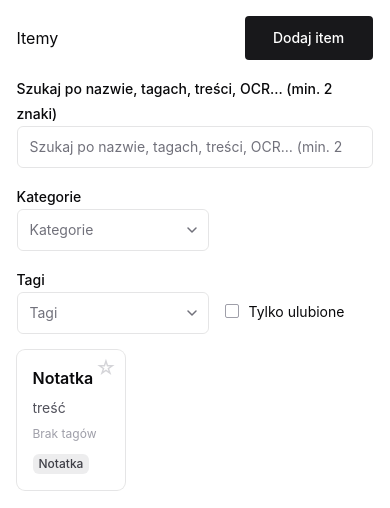
Scenario: ItemsPage — RTK Query cache after a mutation › refetches the item list after marking an item as favorite, without a manual reload
Click the button named "Dodaj do ulubionych" at (106, 368), box [96,358,116,378]
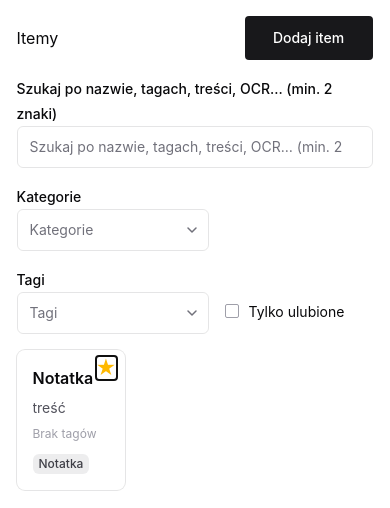
Expected: the button named "Usuń z ulubionych" is shown, [96,358,116,378]
